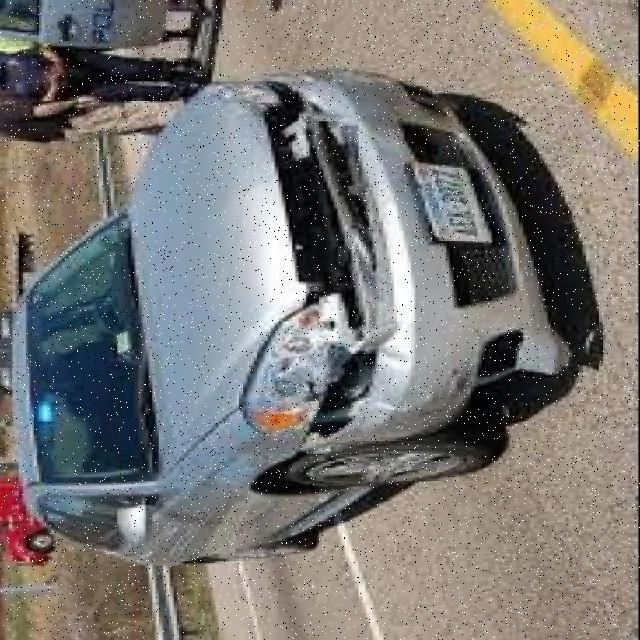damage: (268, 77, 400, 452), (415, 324, 569, 423)
